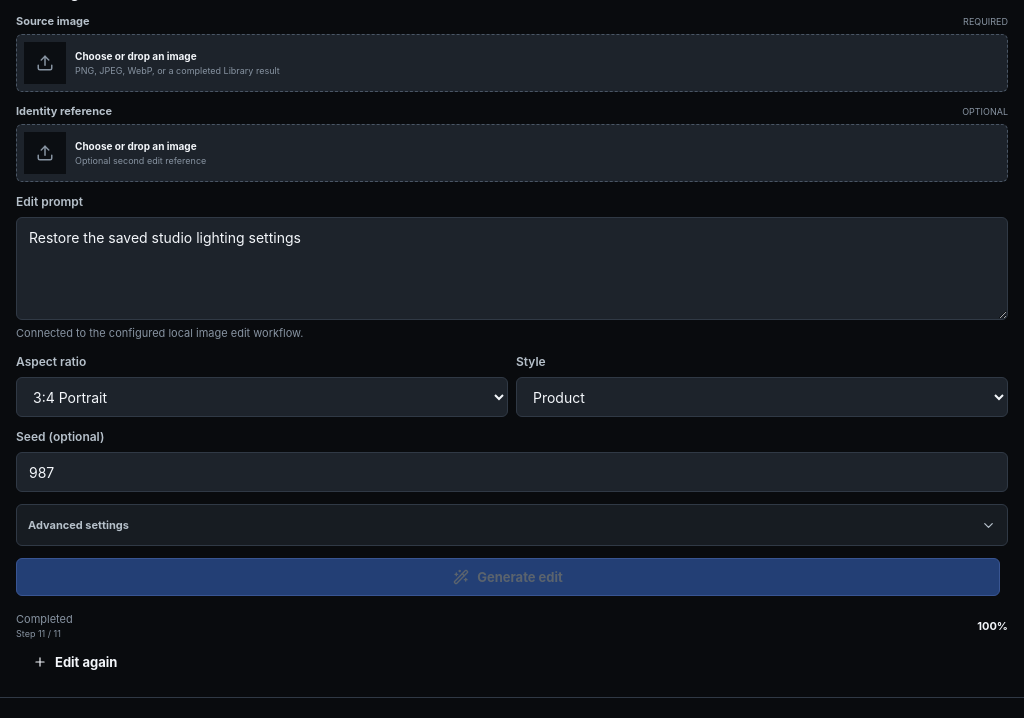
Scenario: ImageEditPanel › restores a selected edit job's persisted settings into the form
Expected: the text box labelled "Edit prompt" holds "Restore the saved studio lighting settings", [16, 217, 1008, 320]
Expected: the dropdown labelled "Aspect ratio" shows "3:4 Portrait", [16, 377, 508, 417]
Click the heading "Advanced settings": {"x": 78, "y": 525} [28, 518, 996, 533]
(page scrolled)
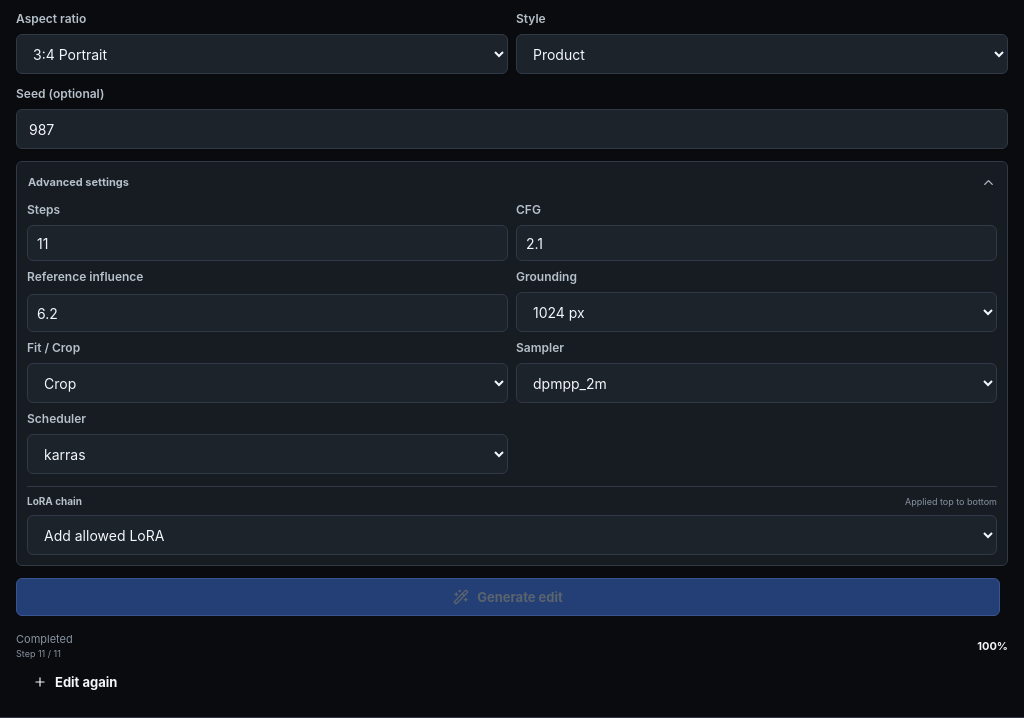
Result: the number field labelled "Steps" holds "11" at [27, 225, 508, 261]
Result: the number field labelled "CFG" holds "2.1" at [516, 225, 997, 261]
Result: the dropdown labelled "Sampler" shows "dpmpp_2m" at [516, 363, 997, 403]
